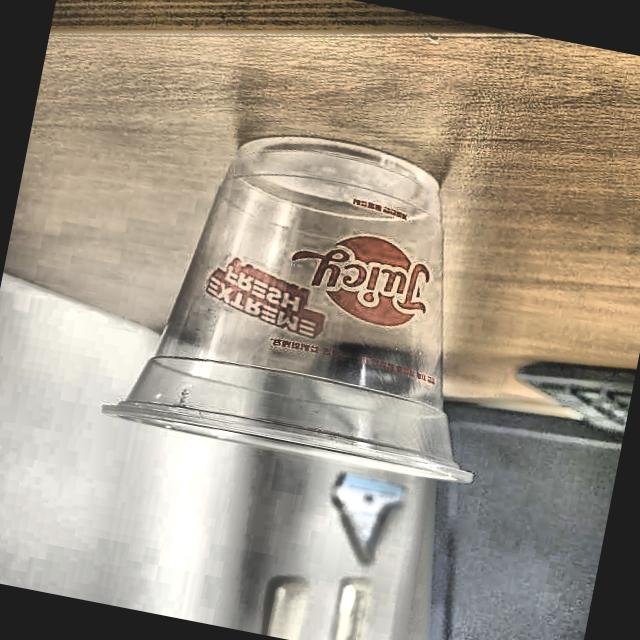plastic cup: (100, 106, 534, 491)
